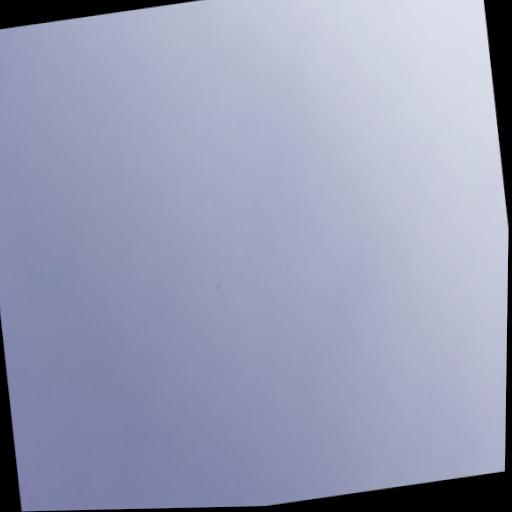drones: (216, 283, 222, 292)
